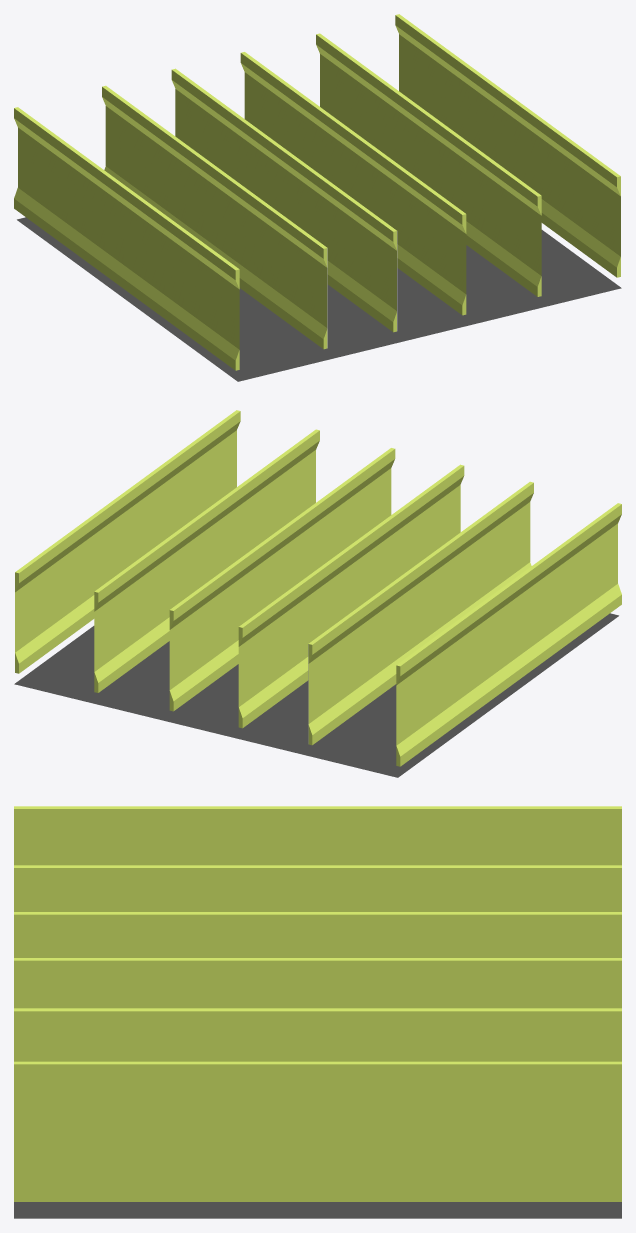
The model's file is Fall.dae.
3 views of the same model, one above another, from view 1: azimuth 30°, elevation 25°; view 2: azimuth 150°, elevation 25°; view 3: azimuth 270°, elevation 25° (orthographic). The views are drawn at different scales.
Parts seen in each view (by area): view 1: node_22f02983_24ce_42b9_a91b_4b8f0a2586b3_mesh3, node_22f02983_24ce_42b9_a91b_4b8f0a2586b3_mesh6, node_22f02983_24ce_42b9_a91b_4b8f0a2586b3_mesh5, node_22f02983_24ce_42b9_a91b_4b8f0a2586b3_mesh2, node_22f02983_24ce_42b9_a91b_4b8f0a2586b3_mesh1, node_22f02983_24ce_42b9_a91b_4b8f0a2586b3_mesh0, node_22f02983_24ce_42b9_a91b_4b8f0a2586b3_mesh4; view 2: node_22f02983_24ce_42b9_a91b_4b8f0a2586b3_mesh3, node_22f02983_24ce_42b9_a91b_4b8f0a2586b3_mesh6, node_22f02983_24ce_42b9_a91b_4b8f0a2586b3_mesh5, node_22f02983_24ce_42b9_a91b_4b8f0a2586b3_mesh2, node_22f02983_24ce_42b9_a91b_4b8f0a2586b3_mesh1, node_22f02983_24ce_42b9_a91b_4b8f0a2586b3_mesh0, node_22f02983_24ce_42b9_a91b_4b8f0a2586b3_mesh4; view 3: node_22f02983_24ce_42b9_a91b_4b8f0a2586b3_mesh5, node_22f02983_24ce_42b9_a91b_4b8f0a2586b3_mesh3, node_22f02983_24ce_42b9_a91b_4b8f0a2586b3_mesh1, node_22f02983_24ce_42b9_a91b_4b8f0a2586b3_mesh4, node_22f02983_24ce_42b9_a91b_4b8f0a2586b3_mesh6, node_22f02983_24ce_42b9_a91b_4b8f0a2586b3_mesh0, node_22f02983_24ce_42b9_a91b_4b8f0a2586b3_mesh2.
Part boxes in pixels (bbox=[...]): node_22f02983_24ce_42b9_a91b_4b8f0a2586b3_mesh3: bbox=[14, 107, 239, 370]; node_22f02983_24ce_42b9_a91b_4b8f0a2586b3_mesh6: bbox=[102, 85, 327, 349]; node_22f02983_24ce_42b9_a91b_4b8f0a2586b3_mesh5: bbox=[395, 14, 620, 277]; node_22f02983_24ce_42b9_a91b_4b8f0a2586b3_mesh2: bbox=[17, 217, 621, 381]; node_22f02983_24ce_42b9_a91b_4b8f0a2586b3_mesh1: bbox=[316, 33, 541, 296]; node_22f02983_24ce_42b9_a91b_4b8f0a2586b3_mesh0: bbox=[171, 68, 397, 332]; node_22f02983_24ce_42b9_a91b_4b8f0a2586b3_mesh4: bbox=[240, 52, 466, 315]; node_22f02983_24ce_42b9_a91b_4b8f0a2586b3_mesh3: bbox=[396, 503, 621, 766]; node_22f02983_24ce_42b9_a91b_4b8f0a2586b3_mesh6: bbox=[308, 481, 533, 745]; node_22f02983_24ce_42b9_a91b_4b8f0a2586b3_mesh5: bbox=[15, 410, 240, 673]; node_22f02983_24ce_42b9_a91b_4b8f0a2586b3_mesh2: bbox=[14, 613, 618, 777]; node_22f02983_24ce_42b9_a91b_4b8f0a2586b3_mesh1: bbox=[94, 429, 319, 692]; node_22f02983_24ce_42b9_a91b_4b8f0a2586b3_mesh0: bbox=[238, 464, 464, 728]; node_22f02983_24ce_42b9_a91b_4b8f0a2586b3_mesh4: bbox=[169, 448, 395, 711]; node_22f02983_24ce_42b9_a91b_4b8f0a2586b3_mesh5: bbox=[14, 1061, 621, 1201]; node_22f02983_24ce_42b9_a91b_4b8f0a2586b3_mesh3: bbox=[14, 806, 621, 865]; node_22f02983_24ce_42b9_a91b_4b8f0a2586b3_mesh1: bbox=[14, 1008, 621, 1061]; node_22f02983_24ce_42b9_a91b_4b8f0a2586b3_mesh4: bbox=[14, 958, 621, 1008]; node_22f02983_24ce_42b9_a91b_4b8f0a2586b3_mesh6: bbox=[14, 865, 621, 911]; node_22f02983_24ce_42b9_a91b_4b8f0a2586b3_mesh0: bbox=[14, 912, 621, 957]; node_22f02983_24ce_42b9_a91b_4b8f0a2586b3_mesh2: bbox=[14, 1202, 621, 1218].
Size of the model in its own units: 5030 by 1395 by 5000.
